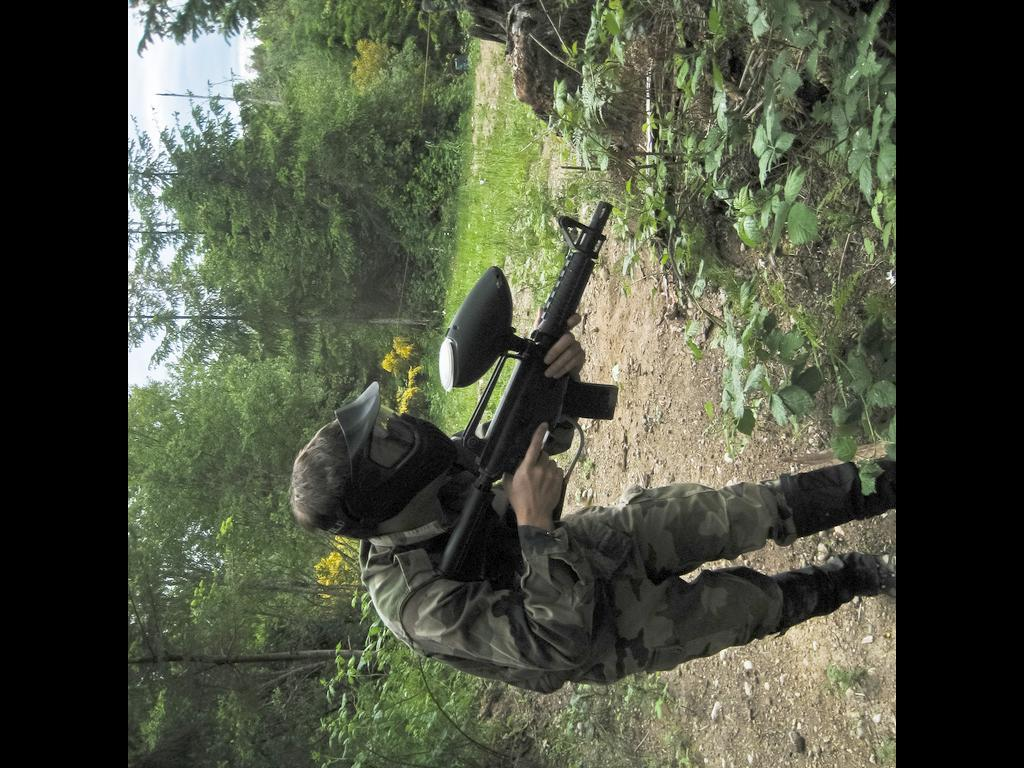gun: (432, 193, 632, 588)
